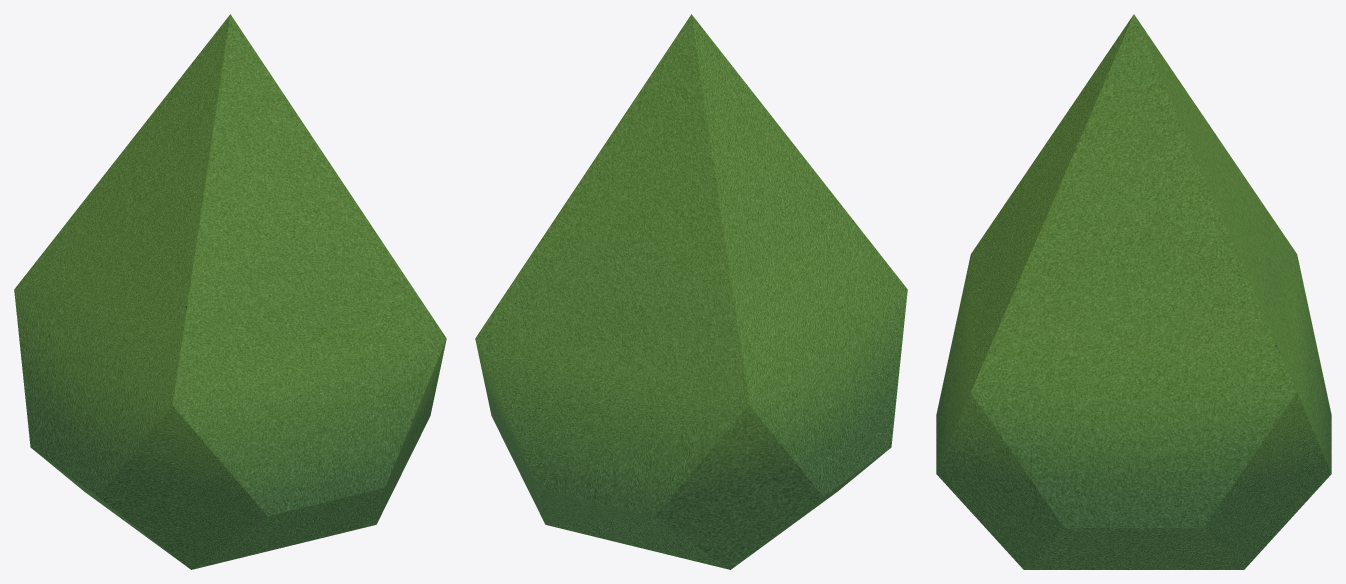
File: grass_2.glb
3 renders of one model, left to right at view 1: azimuth 30°, elevation 25°; view 2: azimuth 150°, elevation 25°; view 3: azimuth 270°, elevation 25°, orthographic. The views are drawn at different scales.
Parts seen in each view (by area): view 1: Cube; view 2: Cube; view 3: Cube.
Part boxes in pixels (x1,y1,x2,y2): Cube: [14, 14, 446, 569]; Cube: [475, 14, 907, 569]; Cube: [936, 14, 1331, 569].
Bounding box in the file's own units: 0.8482 × 1.21 × 0.8482.
Materials: 1 (1 with a texture image).
